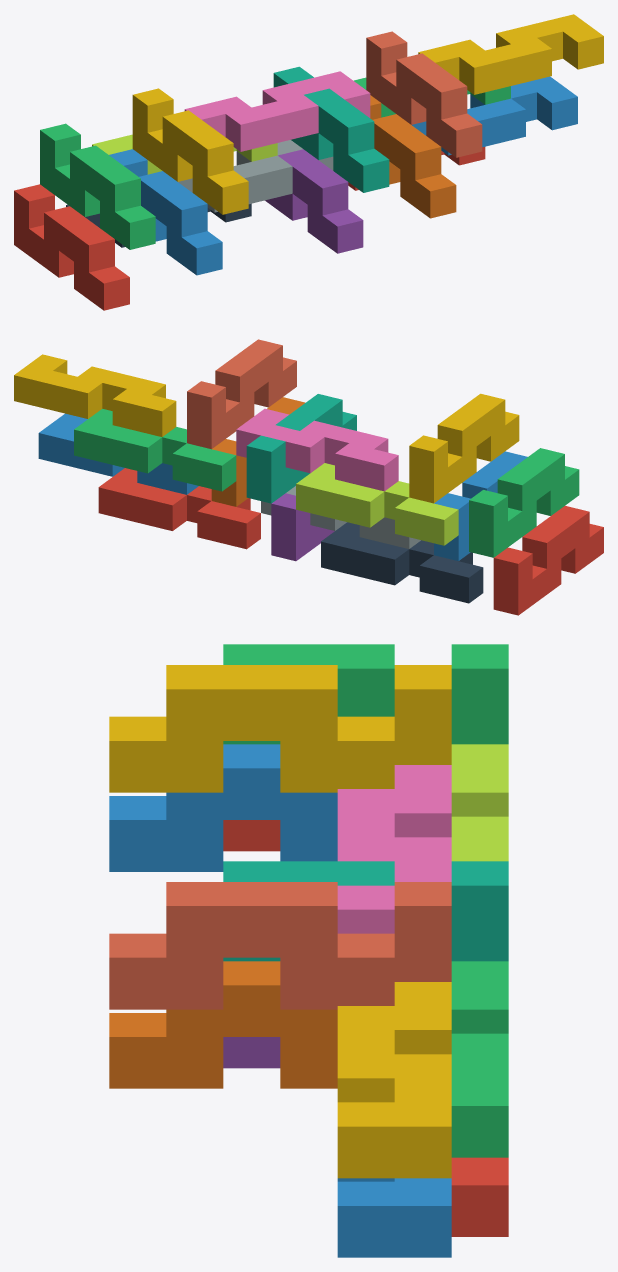
The model's file is tiling.obj.
3 renders of one model, top to bottom at view 1: azimuth 30°, elevation 25°; view 2: azimuth 150°, elevation 25°; view 3: azimuth 270°, elevation 25°, orthographic. The views are drawn at different scales.
Parts seen in each view (by area): view 1: copy_1_domain_4, copy_1_domain_8, copy_1_domain_1, copy_1_domain_3, copy_2_domain_8, copy_2_domain_4, copy_1_domain_7, copy_1_domain_2, copy_1_domain_6, copy_1_domain_5, copy_2_domain_6, copy_2_domain_2 (+3 smaller); view 2: copy_2_domain_8, copy_1_domain_1, copy_1_domain_4, copy_1_domain_3, copy_1_domain_8, copy_2_domain_4, copy_2_domain_5, copy_2_domain_1, copy_2_domain_7, copy_2_domain_3, copy_1_domain_7, copy_2_domain_6 (+4 smaller); view 3: copy_1_domain_4, copy_1_domain_8, copy_2_domain_8, copy_1_domain_6, copy_1_domain_2, copy_2_domain_4, copy_1_domain_3, copy_2_domain_7, copy_1_domain_7, copy_2_domain_6, copy_2_domain_3, copy_2_domain_5 (+2 smaller).
Boxes of the visible parts, x1,y1,x2,y2 form: copy_1_domain_4: (132, 88, 248, 214); copy_1_domain_8: (366, 31, 482, 157); copy_1_domain_1: (14, 184, 129, 310); copy_1_domain_3: (40, 123, 155, 249); copy_2_domain_8: (418, 14, 603, 94); copy_2_domain_4: (184, 71, 370, 151); copy_1_domain_7: (273, 66, 389, 192); copy_1_domain_2: (109, 149, 222, 275); copy_1_domain_6: (370, 95, 456, 218); copy_1_domain_5: (265, 149, 363, 253); copy_2_domain_6: (412, 76, 577, 155); copy_2_domain_2: (178, 140, 333, 212); copy_2_domain_8: (14, 354, 176, 436); copy_1_domain_1: (493, 505, 603, 615); copy_1_domain_4: (409, 393, 519, 503); copy_1_domain_3: (469, 448, 579, 557); copy_1_domain_8: (187, 339, 296, 449); copy_2_domain_4: (236, 408, 398, 491); copy_2_domain_5: (98, 468, 260, 549); copy_2_domain_1: (321, 522, 483, 603); copy_2_domain_7: (74, 409, 236, 491); copy_2_domain_3: (296, 463, 458, 545); copy_1_domain_7: (246, 394, 356, 503); copy_2_domain_6: (38, 413, 198, 494); copy_1_domain_4: (109, 665, 451, 792); copy_1_domain_8: (109, 882, 451, 1009); copy_2_domain_8: (337, 982, 451, 1178); copy_1_domain_6: (109, 961, 337, 1088); copy_1_domain_2: (109, 744, 337, 871); copy_2_domain_4: (337, 765, 451, 933); copy_1_domain_3: (223, 644, 508, 744); copy_2_domain_7: (451, 961, 508, 1157); copy_1_domain_7: (223, 861, 508, 961); copy_2_domain_6: (337, 1178, 451, 1257); copy_2_domain_3: (451, 744, 508, 861); copy_2_domain_5: (451, 1157, 508, 1236).
Bounding box in the file's own units: 21 × 5 × 7.
